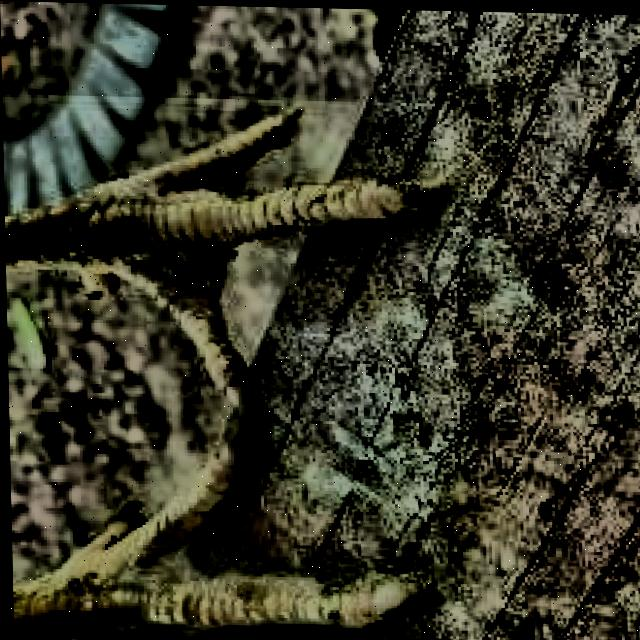Bumble foot: (116, 201, 244, 338), (220, 556, 399, 633), (143, 455, 235, 547), (188, 150, 253, 189)
